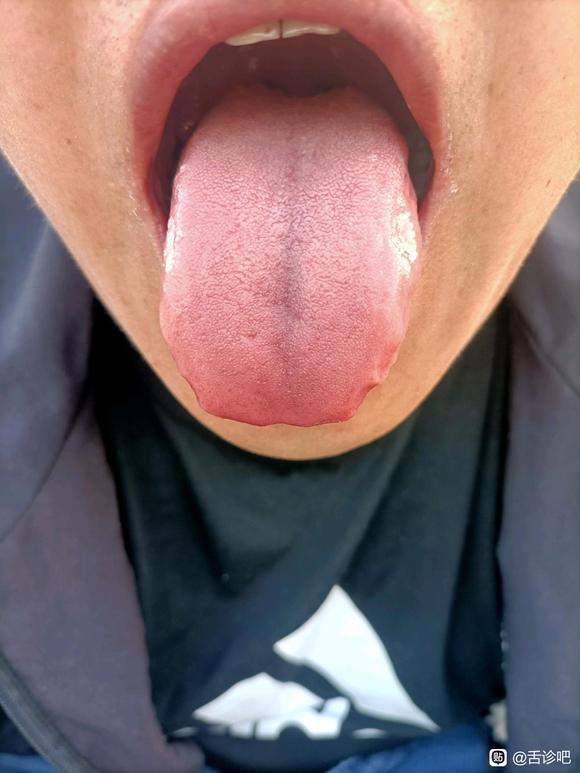baitaishe: (159, 84, 419, 426)
chihenshe: (344, 315, 412, 422)
hongshe: (159, 83, 419, 425)
shenquao: (243, 83, 356, 108)
